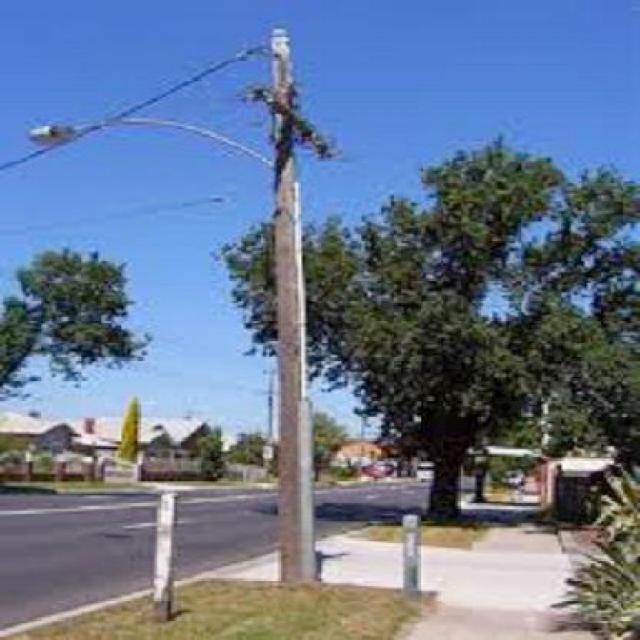crossarm: (238, 82, 335, 158)
pole: (268, 28, 318, 588)
wire: (0, 49, 252, 171), (0, 182, 266, 235)
